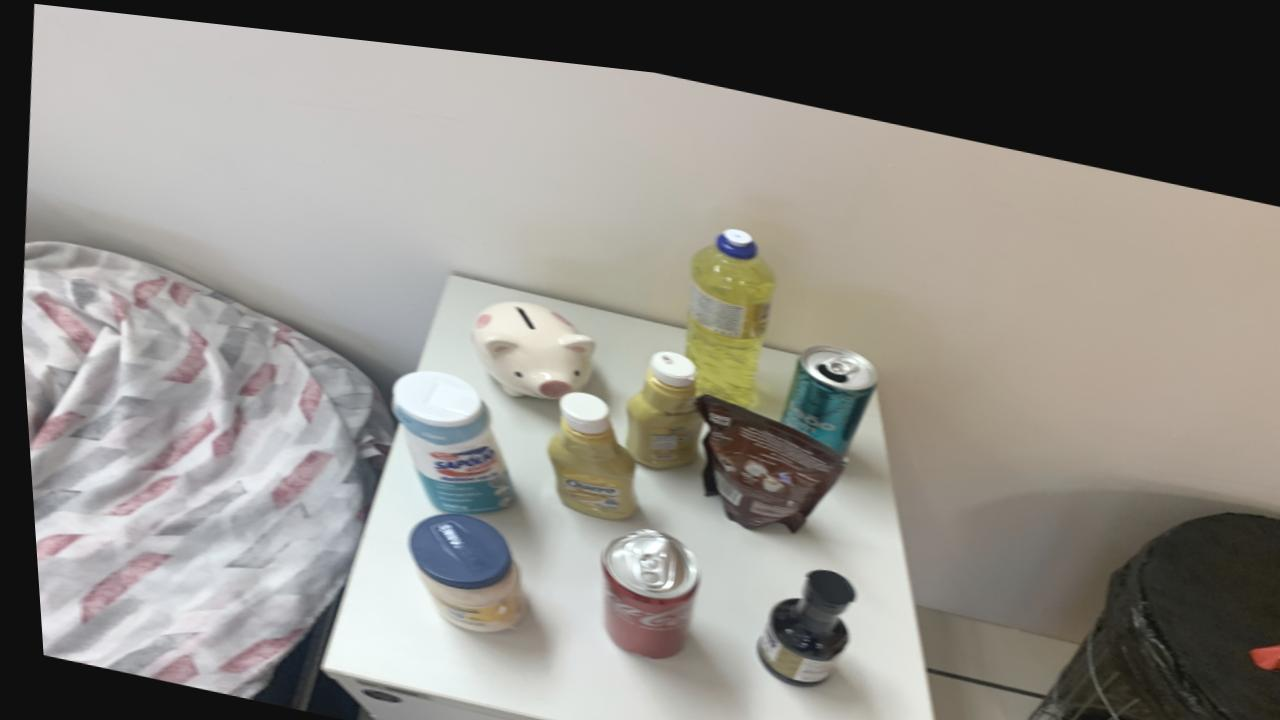Cleaner-Cleanup_Items: (387, 361, 509, 504)
Coffee-Pantry_Items: (693, 379, 839, 514)
Coke-Drinks: (594, 514, 692, 644)
Detergent-Cleanup_Items: (683, 212, 773, 391)
English_Sauce-Pantry_Items: (748, 551, 848, 668)
Mayonnaise-Pantry_Items: (402, 503, 518, 622)
Mustard-Pantry_Items: (542, 378, 630, 505), (620, 335, 697, 453)
Pig_Safe-Miscellaneous: (466, 290, 590, 386)
Tea-Drinks: (776, 325, 874, 434)
